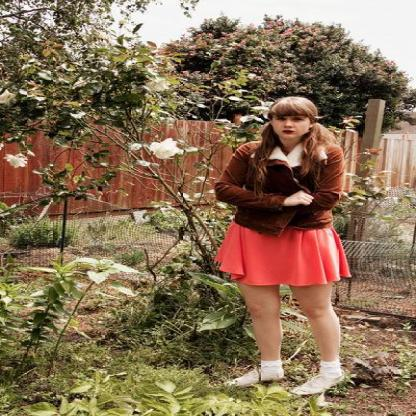jacket: (214, 146, 346, 238)
shoe: (222, 368, 336, 406)
skirt: (214, 208, 354, 286)
